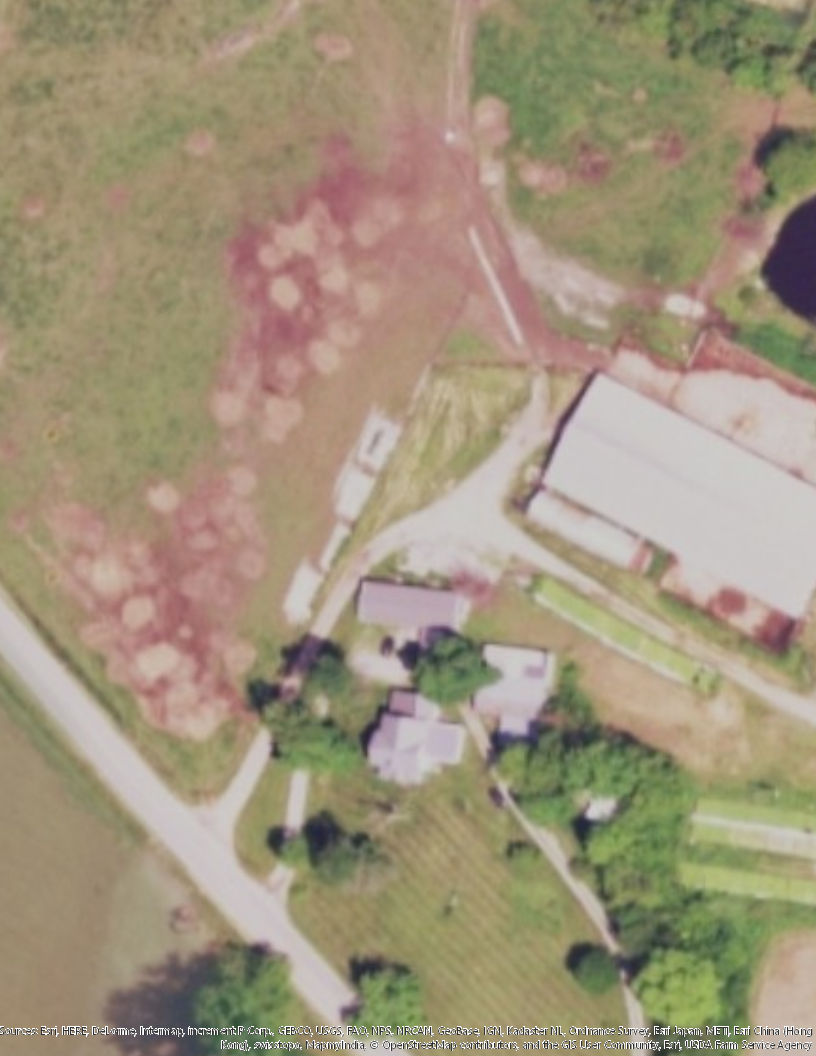cafo: (530, 358, 816, 667)
